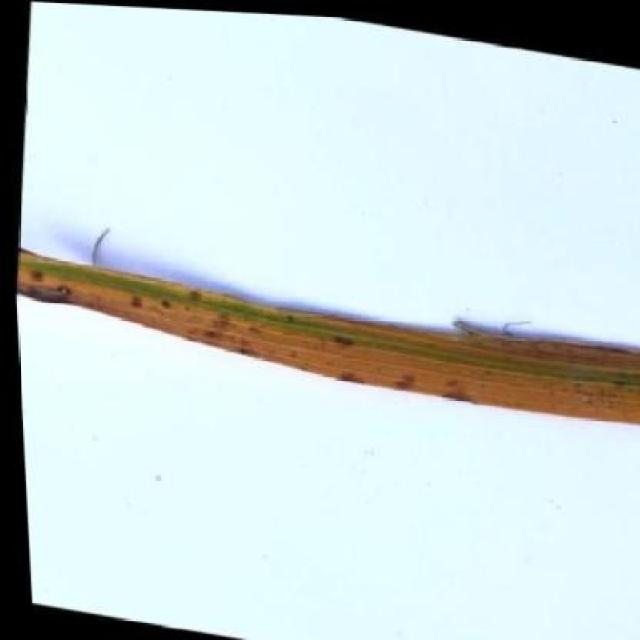Rice False Smut: (14, 250, 640, 418)
